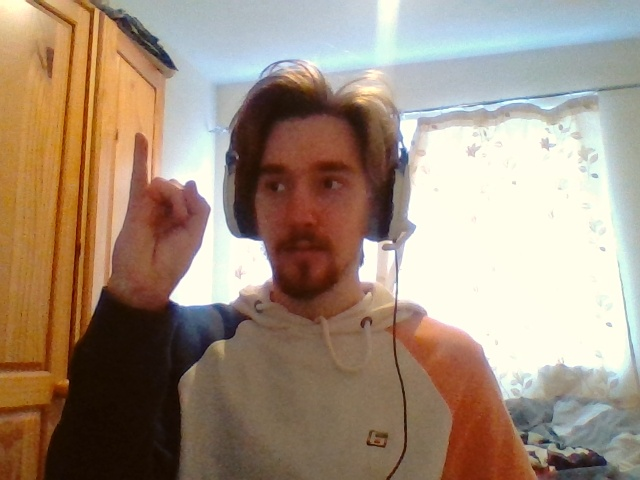bad: (121, 132, 210, 283)
